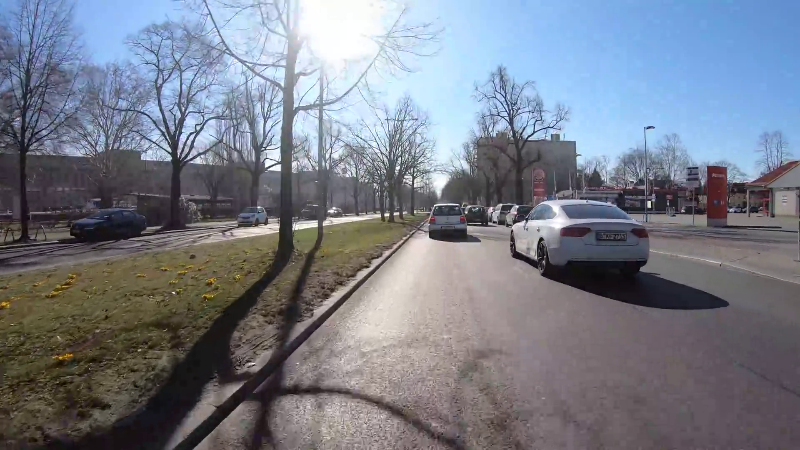Plate: (595, 232, 627, 241), (440, 224, 455, 230)
